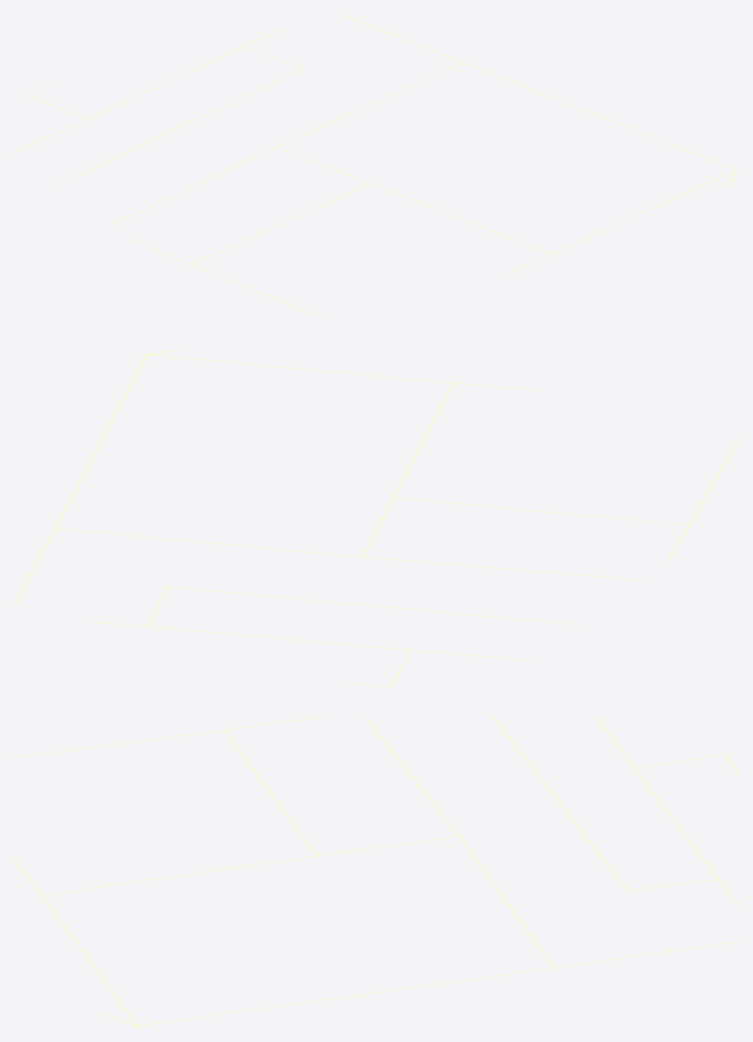
The model's file is tile_1259_9667_centerline.glb.
3 renders of one model, top to bottom at view 1: azimuth 30°, elevation 25°; view 2: azimuth 150°, elevation 25°; view 3: azimuth 270°, elevation 25°, orthographic. The views are drawn at different scales.
Visible parts, largest first — view 1: world; view 2: world; view 3: world.
Boxes of the visible parts, x1,y1,x2,y2 form: world: (14,14,738,319); world: (14,348,738,687); world: (14,716,738,1027).
Size of the model in its own units: 250 by 2.25 by 250.
